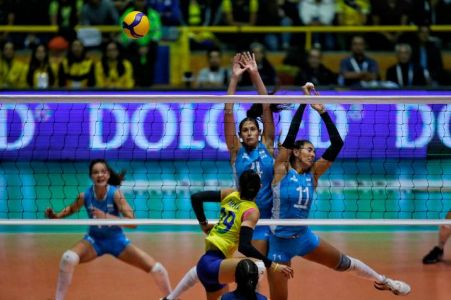voleibol: (122, 11, 149, 39)
